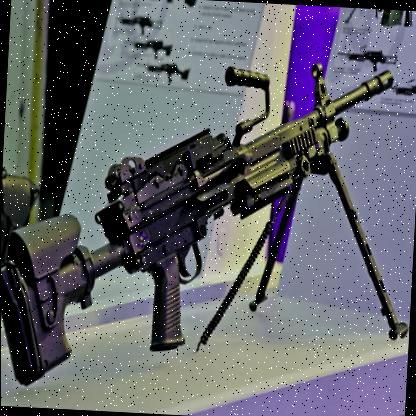rifle: (0, 43, 416, 367), (138, 61, 192, 90), (334, 46, 393, 72), (115, 10, 163, 36), (128, 38, 178, 61), (391, 76, 416, 110)
